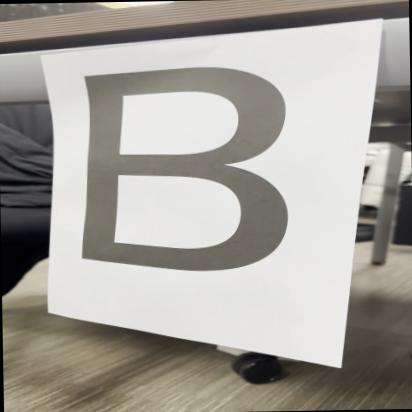seat: (74, 54, 295, 286)
